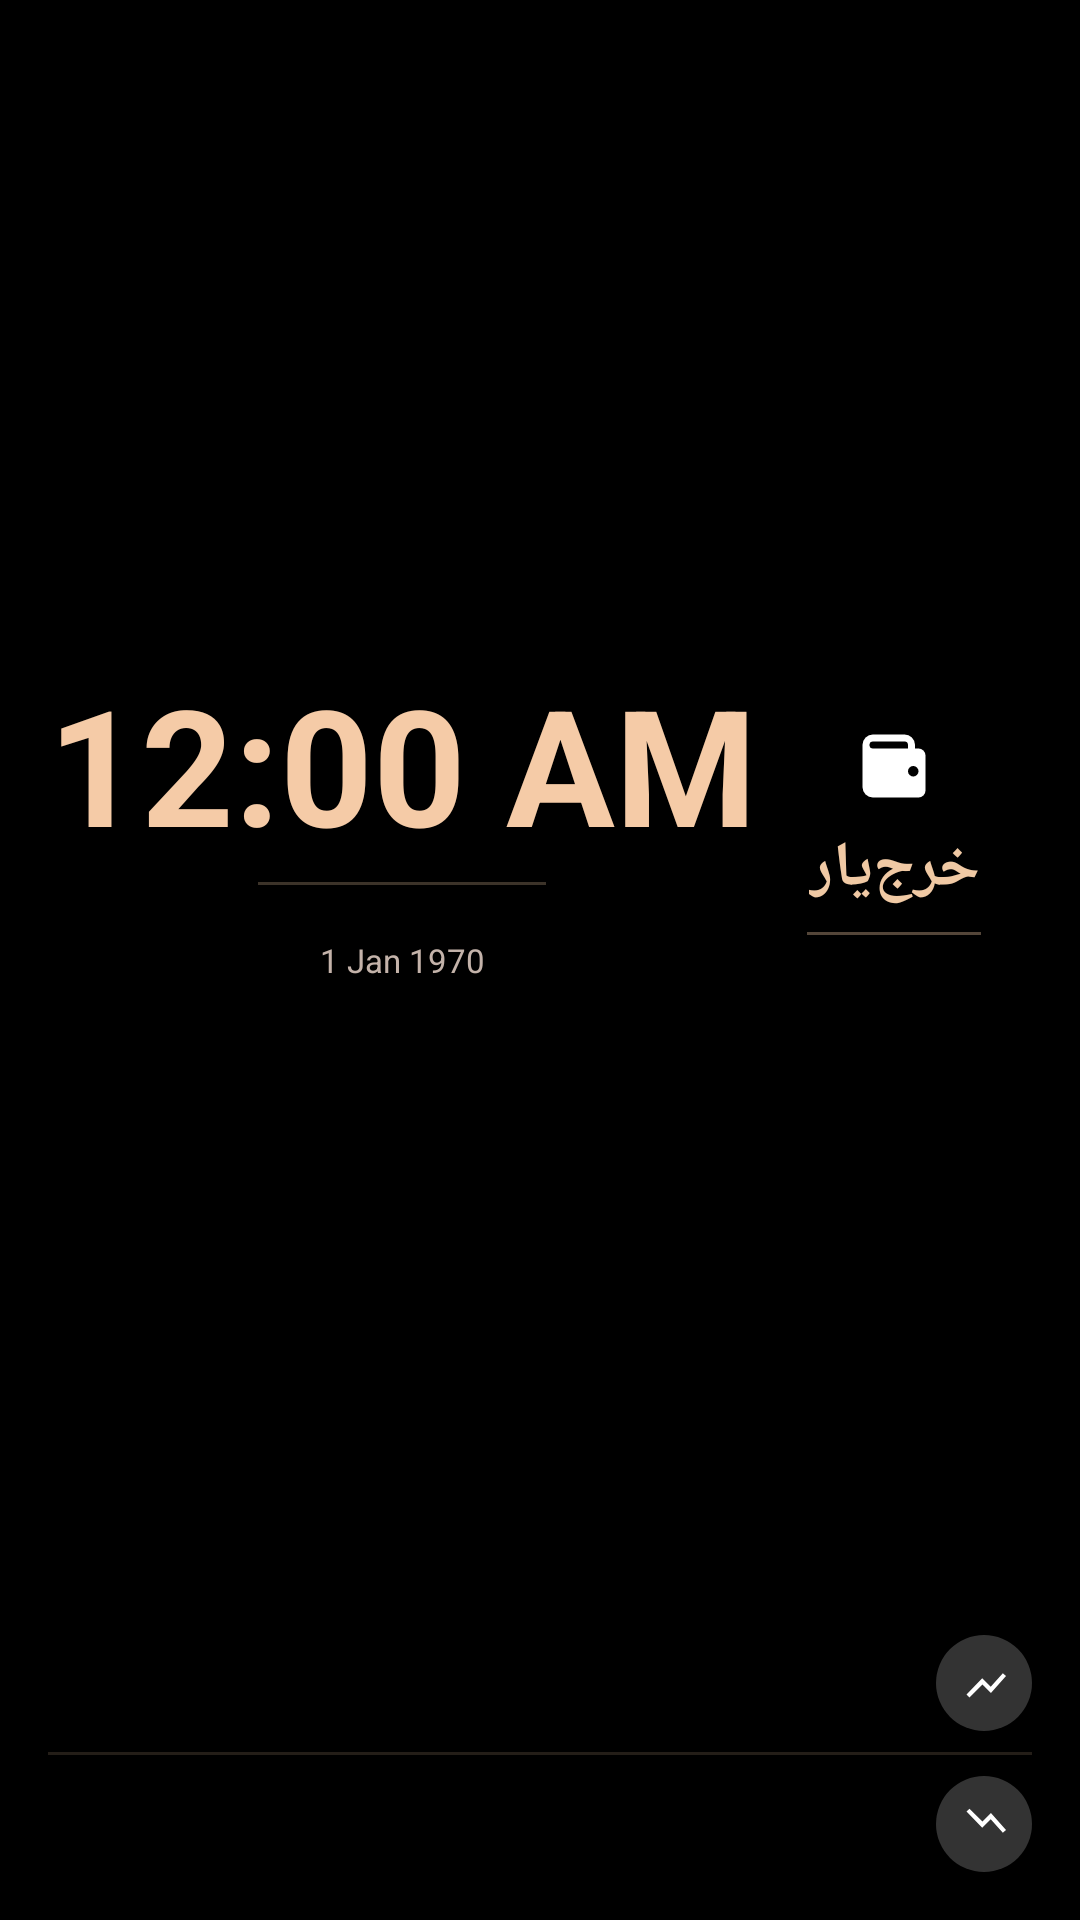

Where icons sit on this 1080x1920 app screen, as (x1, y1, x2, y2):
down: (966, 1809, 1006, 1833)
wallet: (862, 734, 926, 798)
